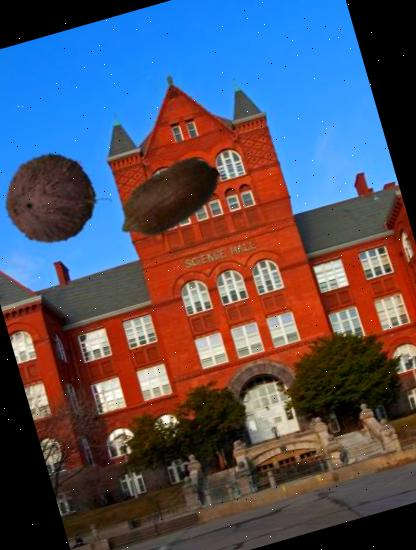Cocos: (0, 137, 111, 257)
Nut: (98, 128, 238, 268)
